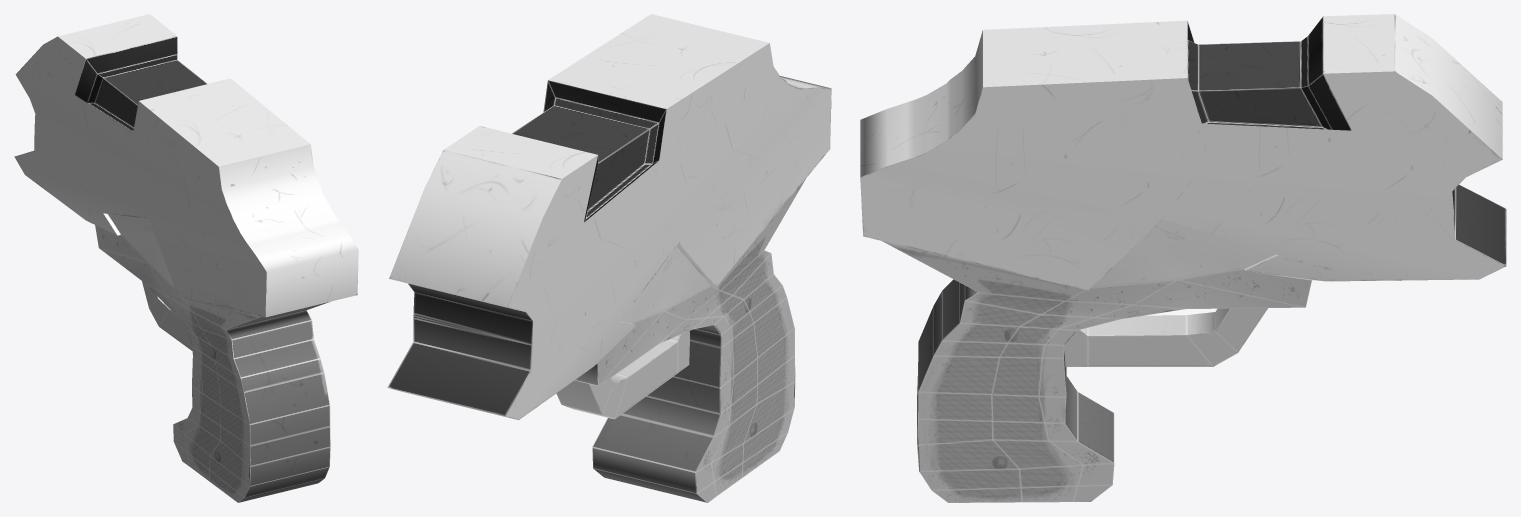
File: Destinytazer_FINAL_151103.fbx
3 views of the same model, side by side, from view 1: azimuth 30°, elevation 25°; view 2: azimuth 150°, elevation 25°; view 3: azimuth 270°, elevation 25° (orthographic). The views are drawn at different scales.
Parts seen in each view (by area): view 1: WeaponOutofRK:RoadKillOut; view 2: WeaponOutofRK:RoadKillOut; view 3: WeaponOutofRK:RoadKillOut.
Part boxes in pixels (x1=…): WeaponOutofRK:RoadKillOut: x1=14, y1=14, x2=358, y2=502; WeaponOutofRK:RoadKillOut: x1=387, y1=14, x2=831, y2=502; WeaponOutofRK:RoadKillOut: x1=860, y1=14, x2=1506, y2=502.
Bounding box in the file's own units: 290 × 1025 × 1381.
